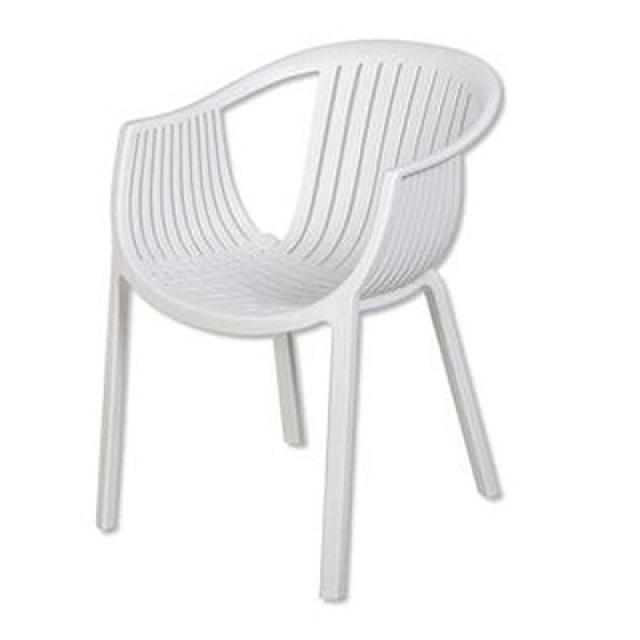chair: (90, 35, 508, 610)
